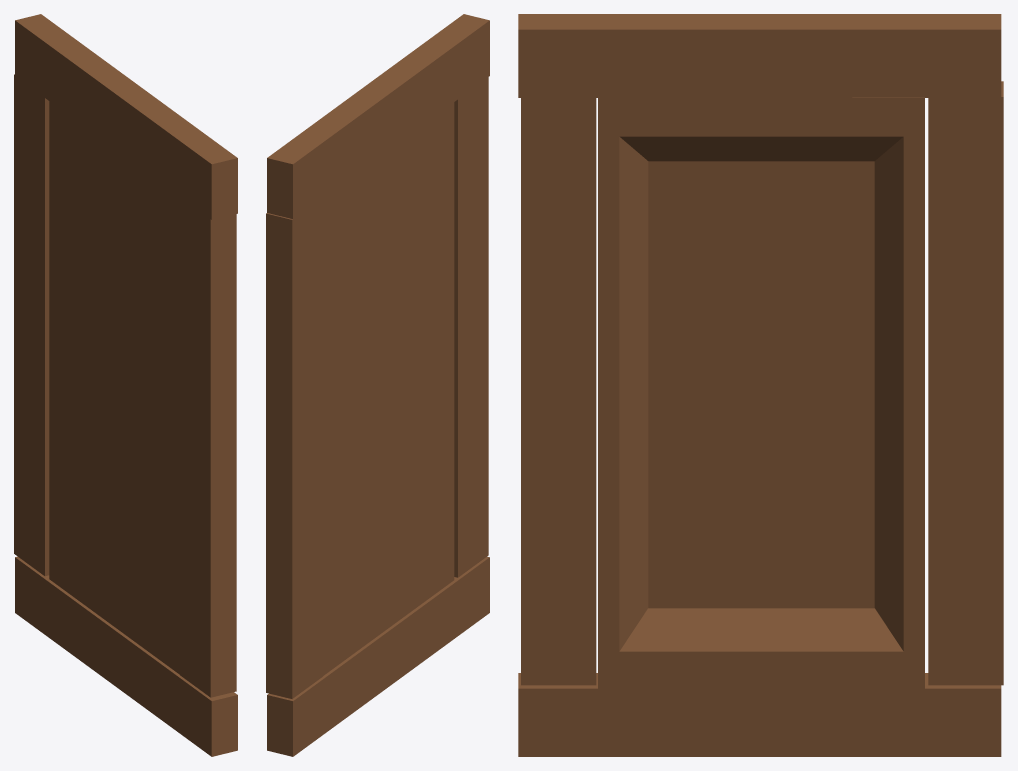
The model's file is Door thingy.fbx.
3 renders of one model, left to right at view 1: azimuth 30°, elevation 25°; view 2: azimuth 150°, elevation 25°; view 3: azimuth 270°, elevation 25°, orthographic. The views are drawn at different scales.
Visible parts, largest first — view 1: Door frame, Door; view 2: Door frame, Door; view 3: Door, Door frame.
Boxes of the visible parts, x1,y1,x2,y2 form: Door frame: (14,14,237,756); Door: (49,101,179,674); Door frame: (266,14,489,756); Door: (323,102,454,675); Door: (598,97,924,690); Door frame: (518,14,1003,756).
Bounding box in the file's own units: 22.73 × 491 × 297.
